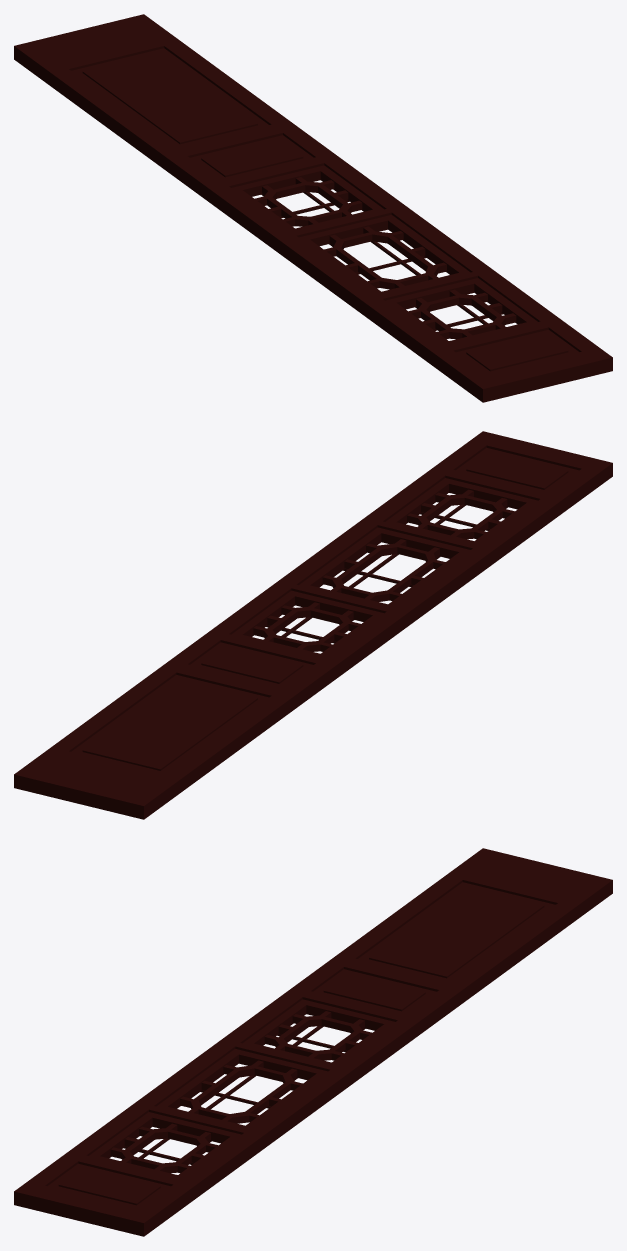
The model's file is Door 1.obj.
3 views of the same model, one above another, from view 1: azimuth 30°, elevation 25°; view 2: azimuth 150°, elevation 25°; view 3: azimuth 330°, elevation 25° (orthographic).
Size of the model in its own units: 600 by 60 by 3750.
